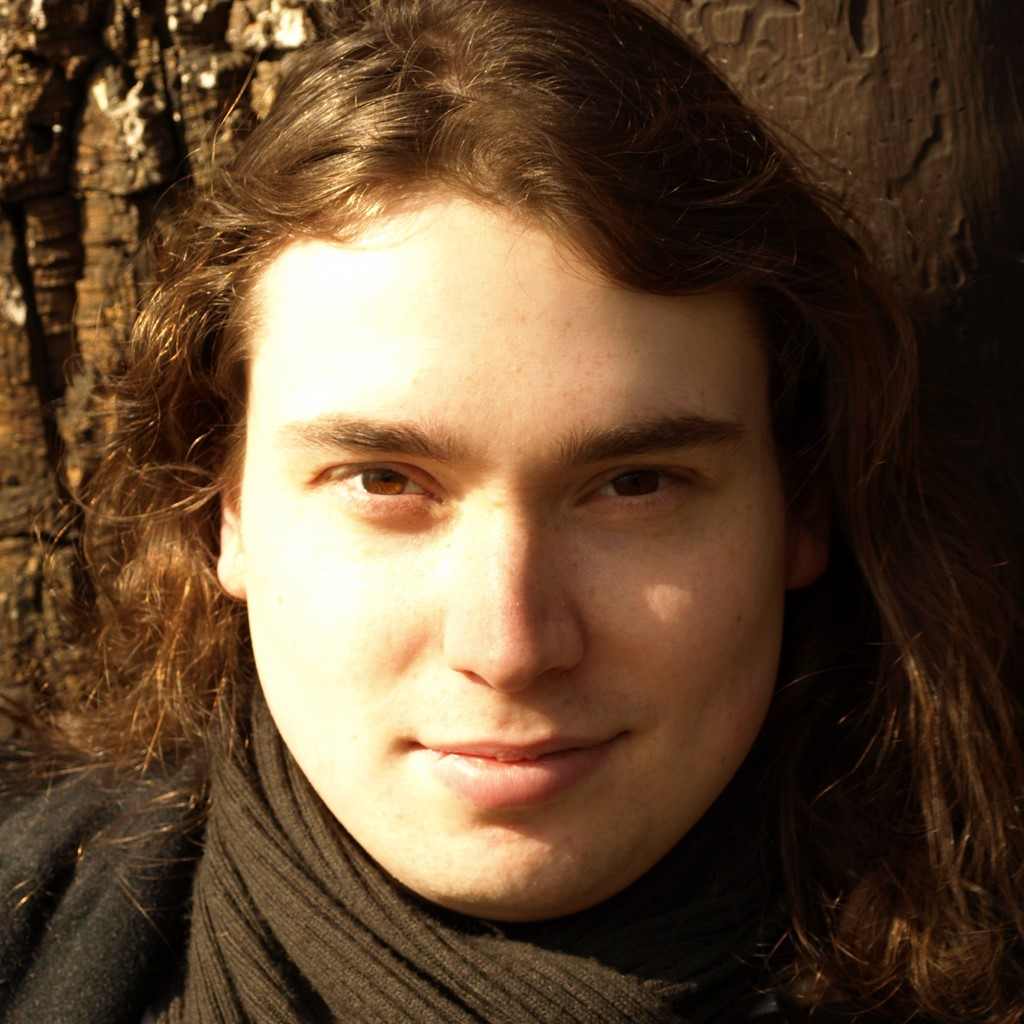sin_mascara: (232, 180, 794, 908)
